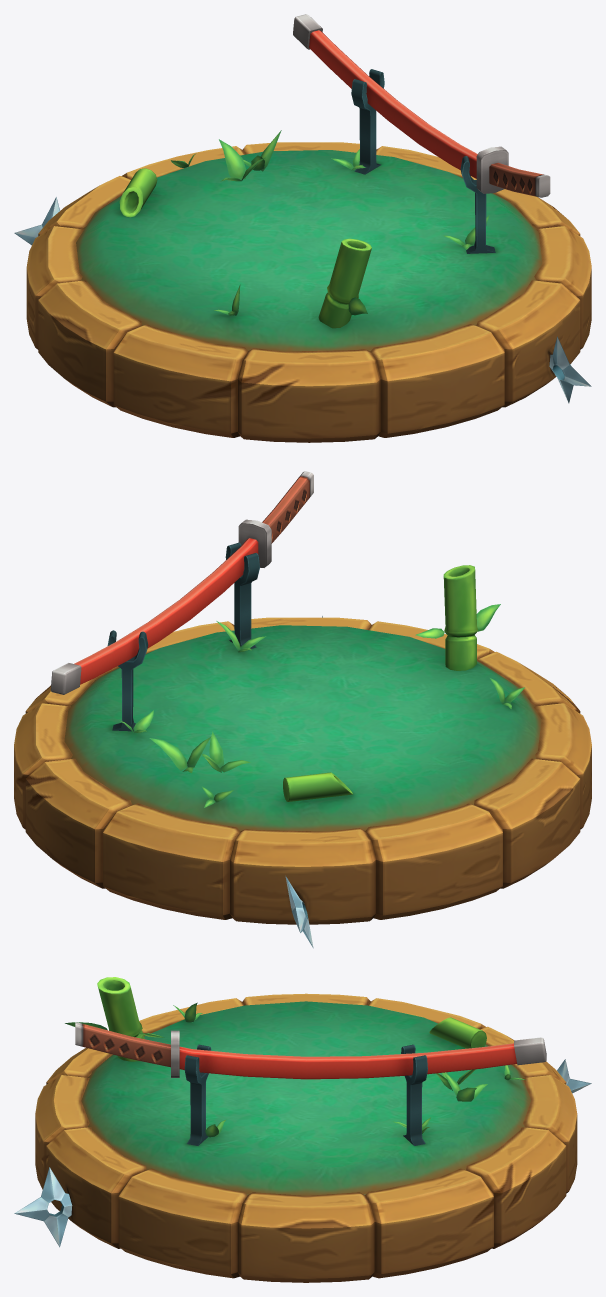
Rendered from stage5.fbx.
3 renders of one model, top to bottom at view 1: azimuth 30°, elevation 25°; view 2: azimuth 150°, elevation 25°; view 3: azimuth 270°, elevation 25°, orthographic. The views are drawn at different scales.
Visible parts, largest first — view 1: pCylinder96; view 2: pCylinder96; view 3: pCylinder96.
Boxes of the visible parts, <box> form: pCylinder96: <box>14,14,591,442</box>; pCylinder96: <box>14,471,591,948</box>; pCylinder96: <box>14,977,591,1282</box>.
Size of the model in its own units: 1.34 by 0.5894 by 1.42.
